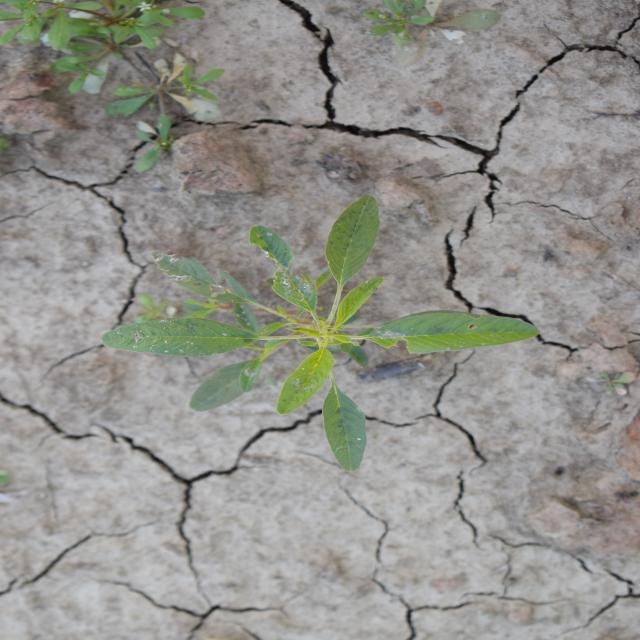Carpetweed: (3, 1, 230, 179), (354, 0, 504, 49)
Waterhemp: (98, 194, 544, 473)
